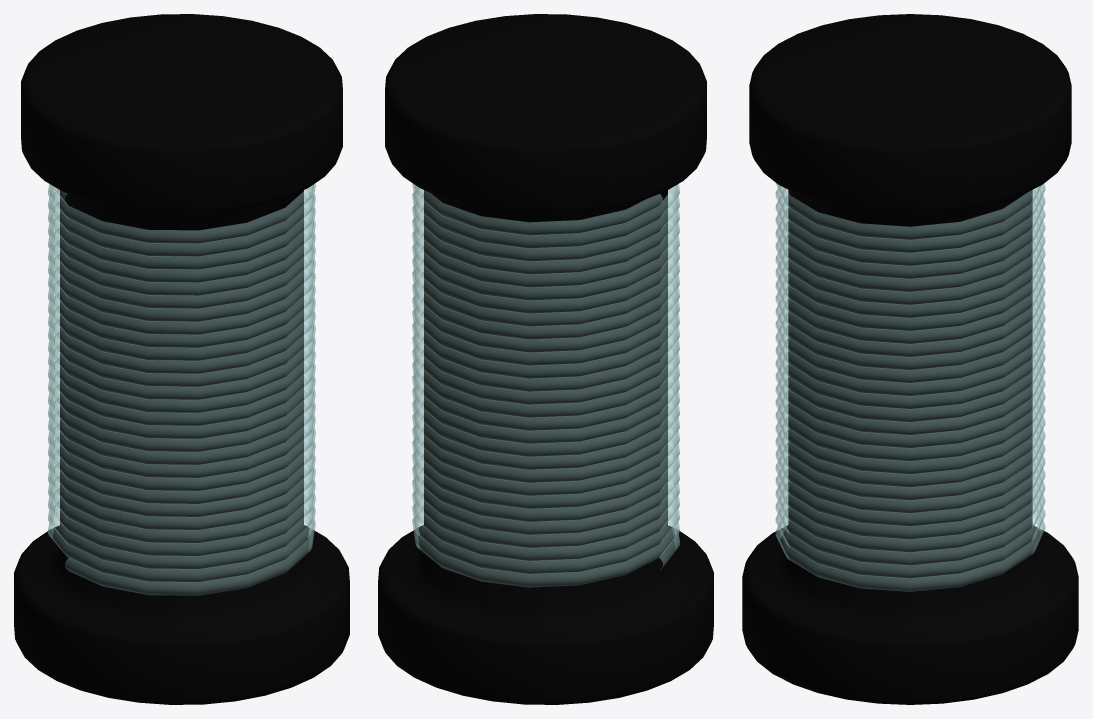
File: thread.fbx
3 views of the same model, side by side, from view 1: azimuth 30°, elevation 25°; view 2: azimuth 150°, elevation 25°; view 3: azimuth 270°, elevation 25° (orthographic).
Parts seen in each view (by area): view 1: Cylinder, Plane.003; view 2: Cylinder, Plane.003; view 3: Cylinder, Plane.003.
Part boxes in pixels (x1,y1,x2,y2): Cylinder: (14, 14, 349, 704); Plane.003: (48, 183, 315, 595); Cylinder: (378, 14, 713, 704); Plane.003: (412, 183, 679, 587); Cylinder: (742, 14, 1078, 704); Plane.003: (775, 183, 1045, 591).
Bounding box in the file's own units: 14.78 × 27.03 × 14.78.
